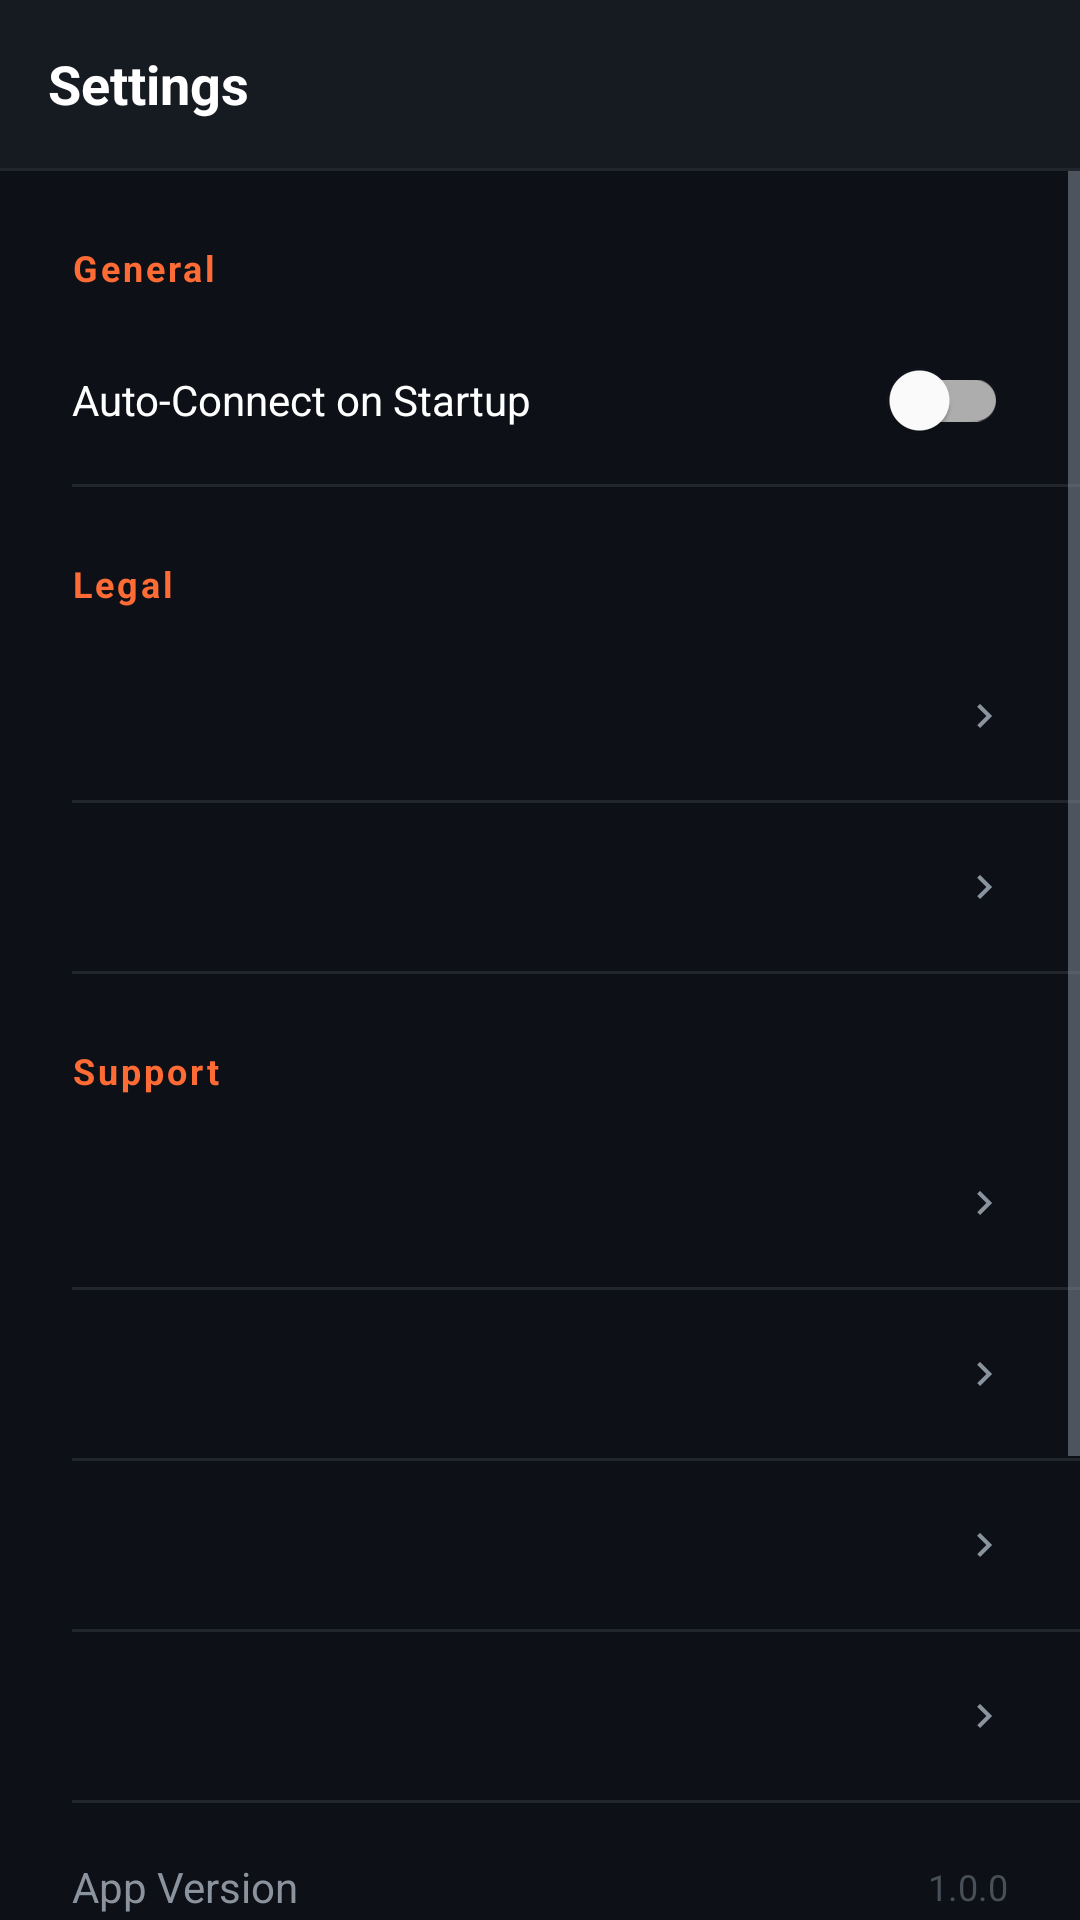

Icons on this 1080w x 1920h Android screen, each with the point to tap as [x,y]:
arrow right: [984,716], [984,887], [984,1203], [984,1374], [984,1545], [984,1716]
